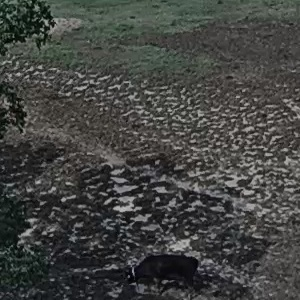cow: (120, 240, 216, 292)
